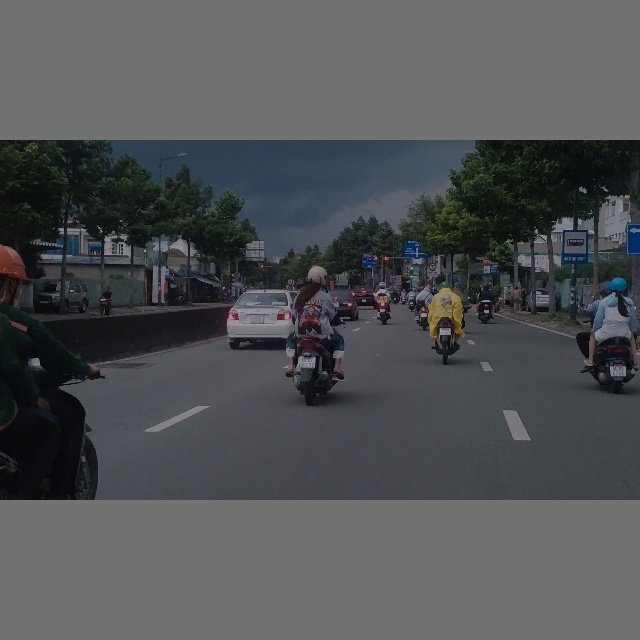I.434a: (563, 230, 588, 263)
P.137: (429, 263, 437, 271)
R.415a: (362, 256, 377, 268)
